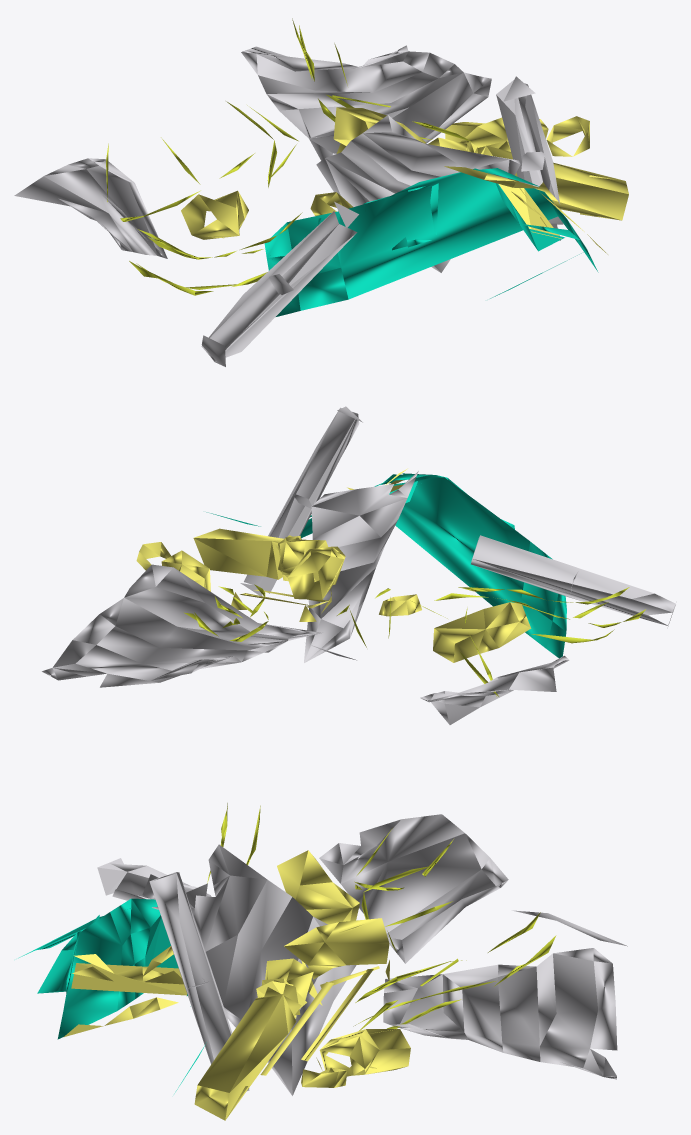
File: debris_a_lod5.glb
3 views of the same model, one above another, from view 1: azimuth 30°, elevation 25°; view 2: azimuth 150°, elevation 25°; view 3: azimuth 270°, elevation 25° (orthographic). The views are drawn at different scales.
Bounding box in the file's own units: 21.27 × 8.98 × 23.08.
